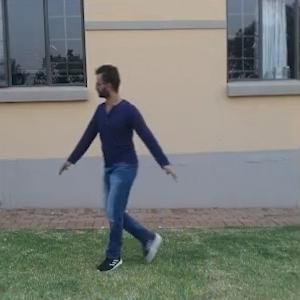land: (57, 77, 179, 238)
